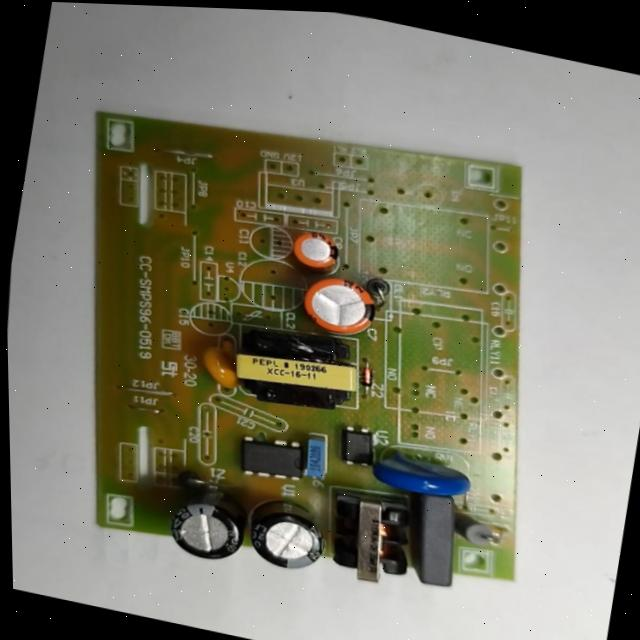Cap1: (292, 265, 382, 343)
Cap2: (284, 224, 344, 274)
Cap3: (238, 487, 336, 579)
Cap4: (162, 481, 252, 569)
MOSFET: (232, 428, 308, 486)
Mov: (366, 438, 478, 504)
Resistor: (450, 509, 503, 550)
Transformer: (221, 316, 369, 423), (323, 485, 423, 593)
